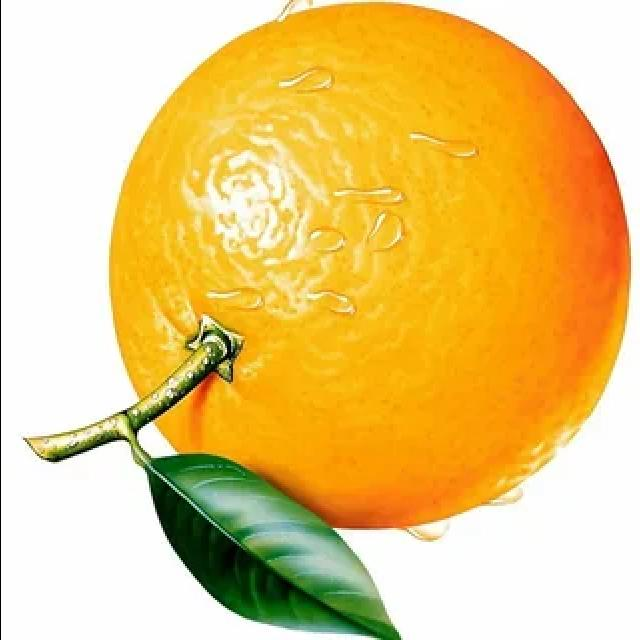orange: (83, 0, 640, 548)
